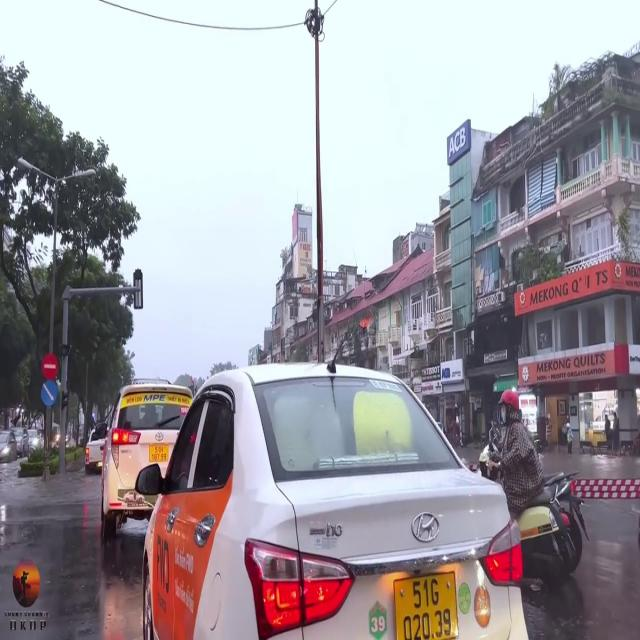bien_vang: (395, 567, 464, 640), (150, 444, 168, 462)
